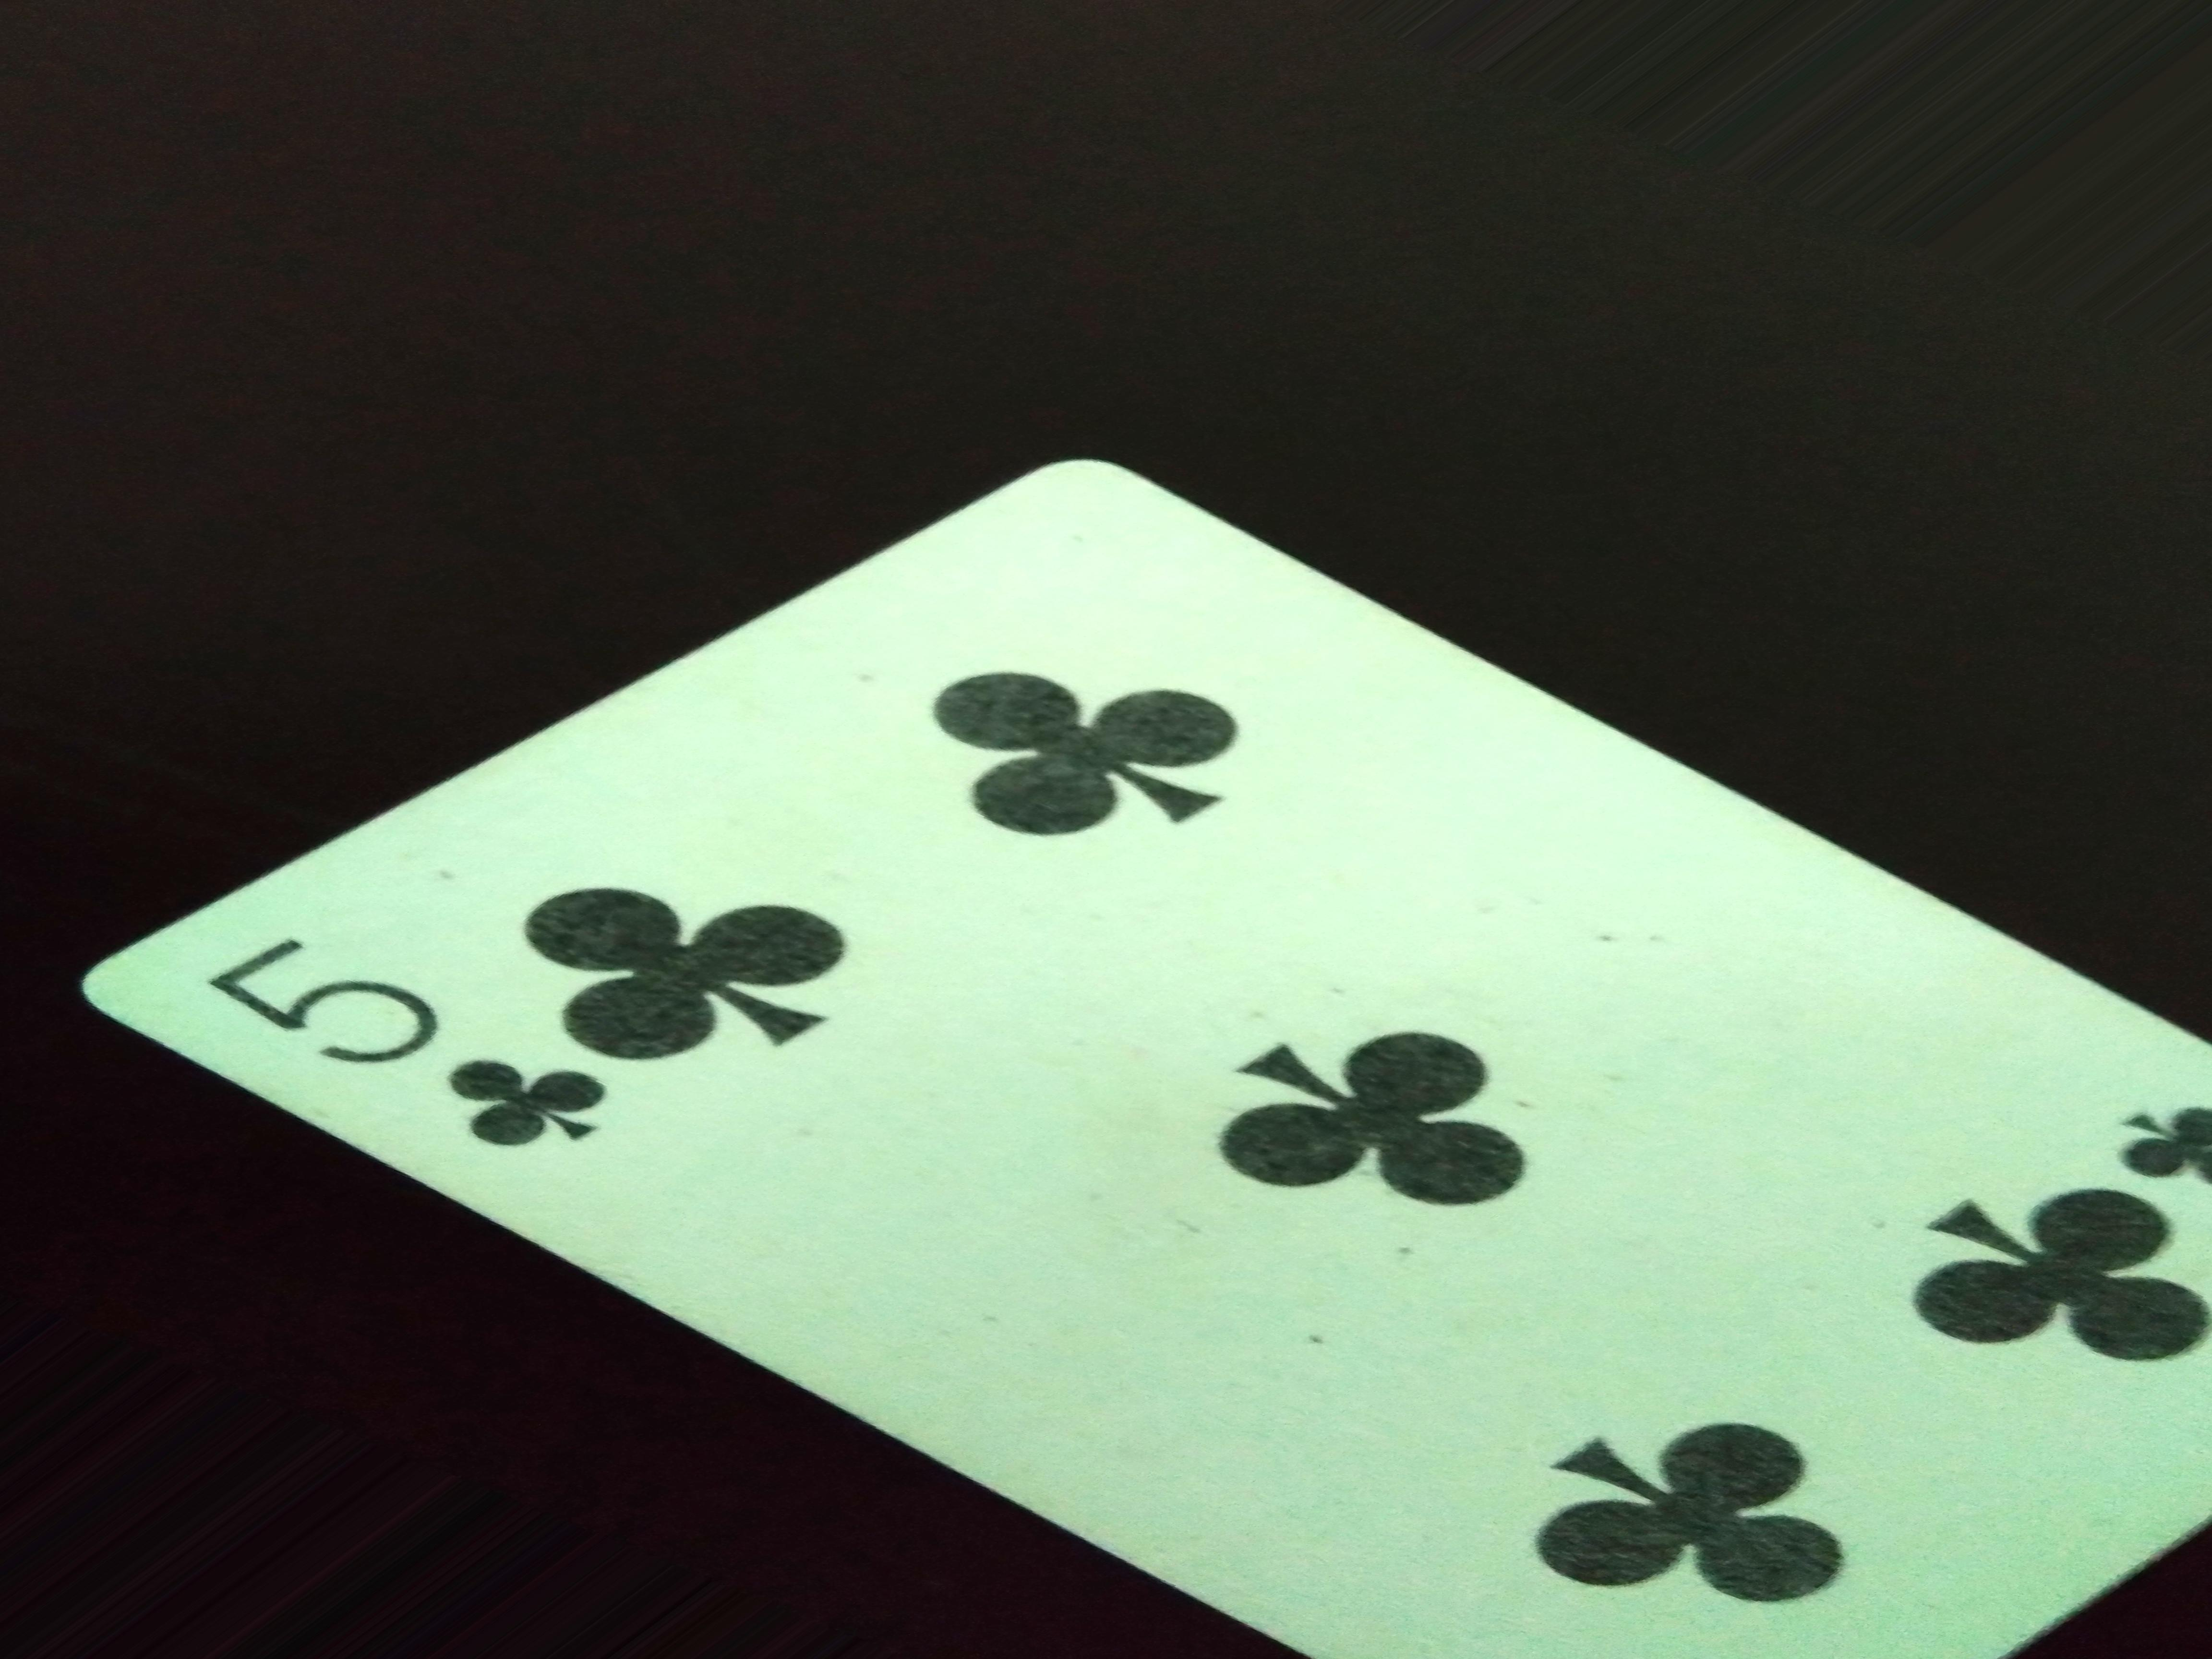5C: (211, 924, 662, 1175)
